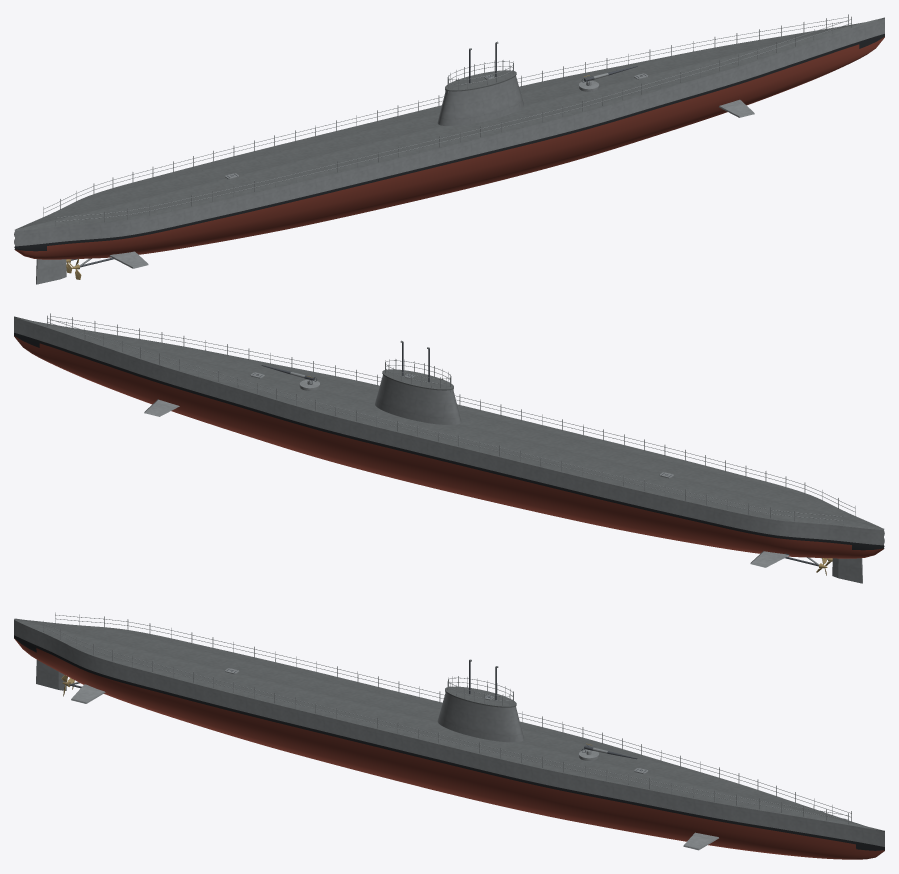
File: sturgeon_ss23.glb
3 renders of one model, top to bottom at view 1: azimuth 30°, elevation 25°; view 2: azimuth 150°, elevation 25°; view 3: azimuth 330°, elevation 25°, orthographic.
Visible parts, largest first — view 1: Sturgeon class; view 2: Sturgeon class; view 3: Sturgeon class.
Boxes of the visible parts, x1=… form: Sturgeon class: x1=14, y1=14, x2=884, y2=284; Sturgeon class: x1=14, y1=313, x2=884, y2=583; Sturgeon class: x1=14, y1=612, x2=884, y2=859.
Size of the model in its own units: 84 by 12.31 by 10.42.
6 materials, 2 textured.
